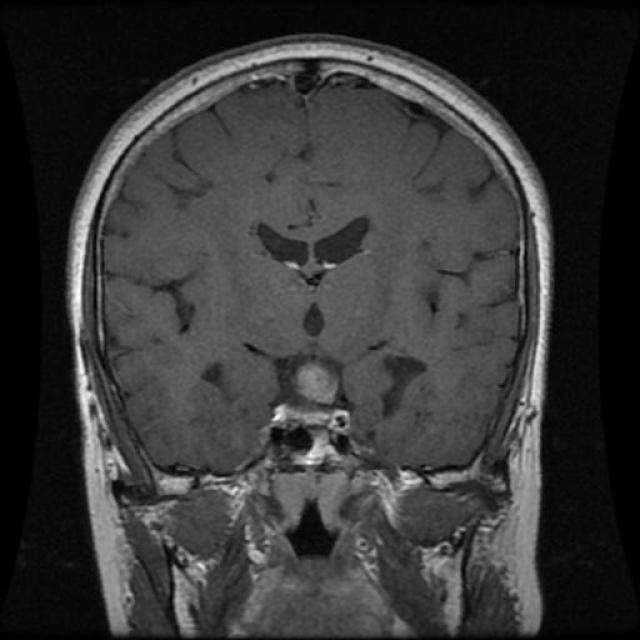pituitary: (274, 339, 365, 467)
